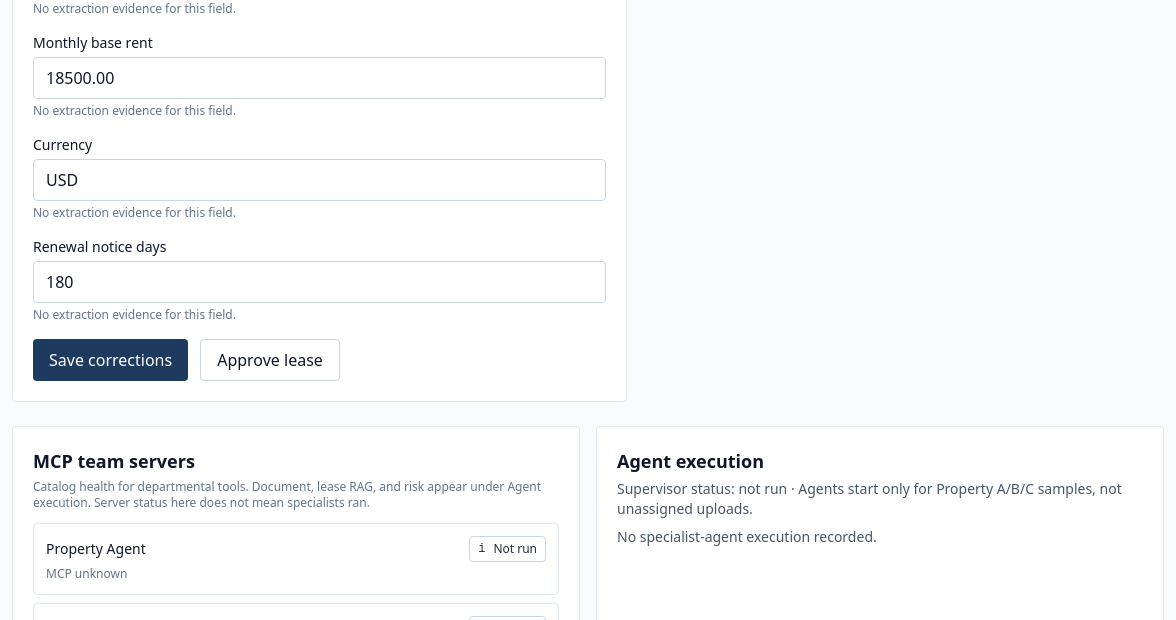
approval is available when there are no blocking issues
(page scrolled)
Click the button "Approve lease" at (270, 360), box x1=200 y1=339 x2=340 y2=381
(page scrolled)
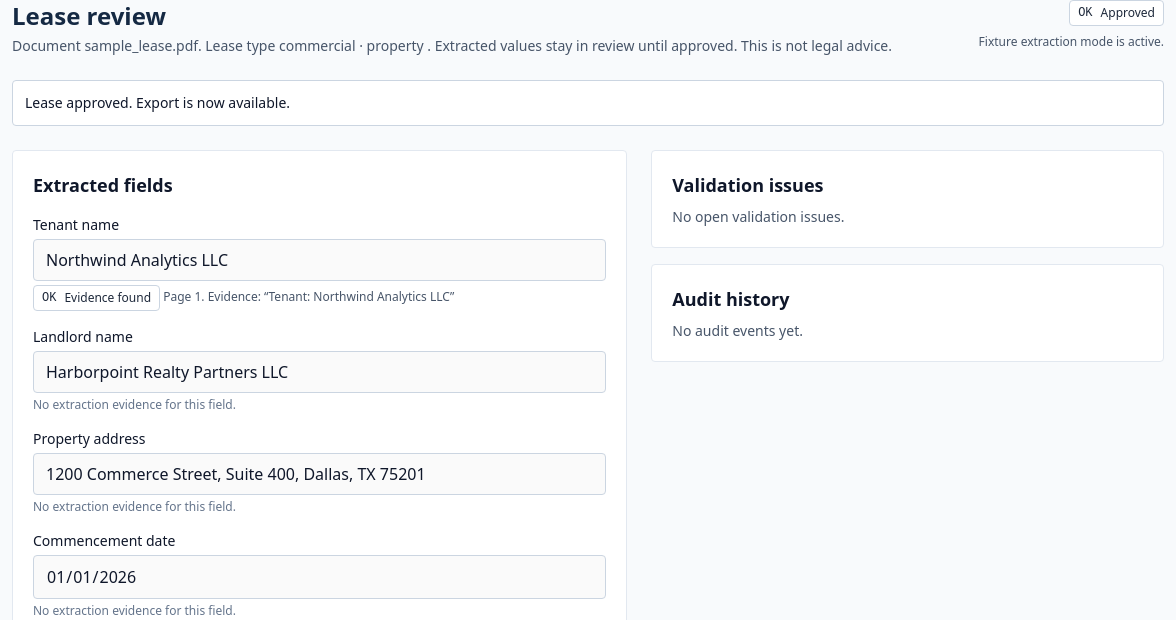
Expected: the text "Lease approved. Export is now available." is shown, x1=12 y1=80 x2=1164 y2=126
